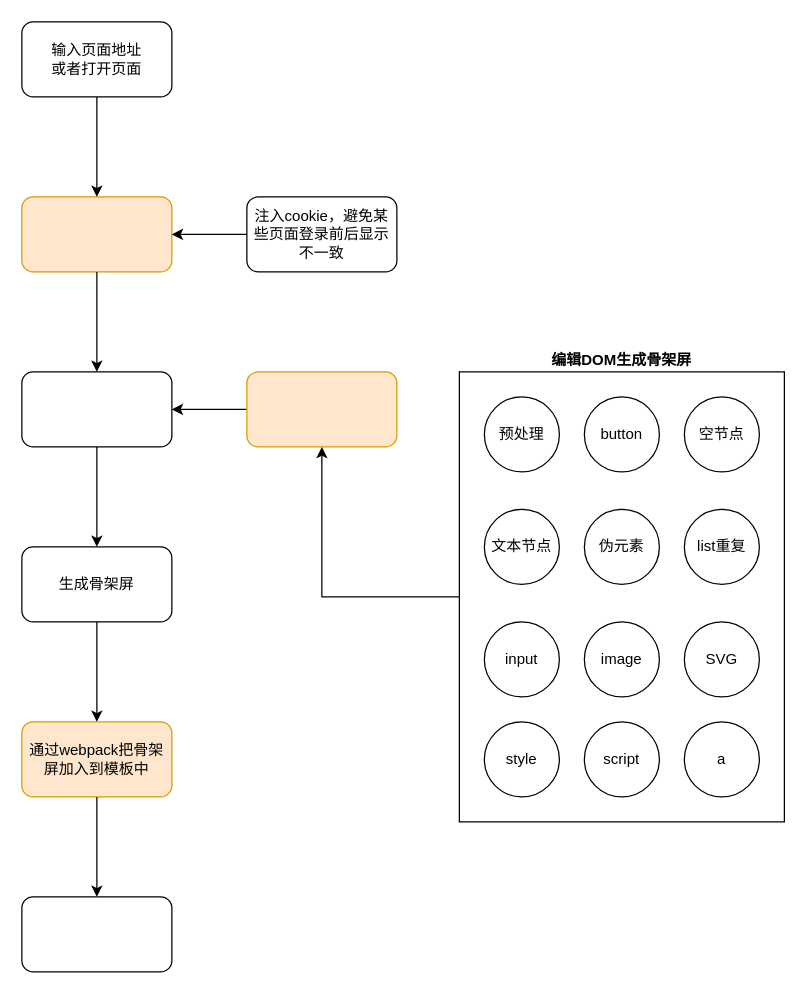
Some shapes in this 806 by 994 pixel diagram are drawn without their labels. Each missing label, with the centre of its shape:
"打开一个无头浏览器 puppeteer" goes at point 96,234.
"注入DOM操作" goes at point 321,409.
"渲染页面" goes at point 96,409.
"监听load事件，之后移除骨架节点" goes at point 96,934.
